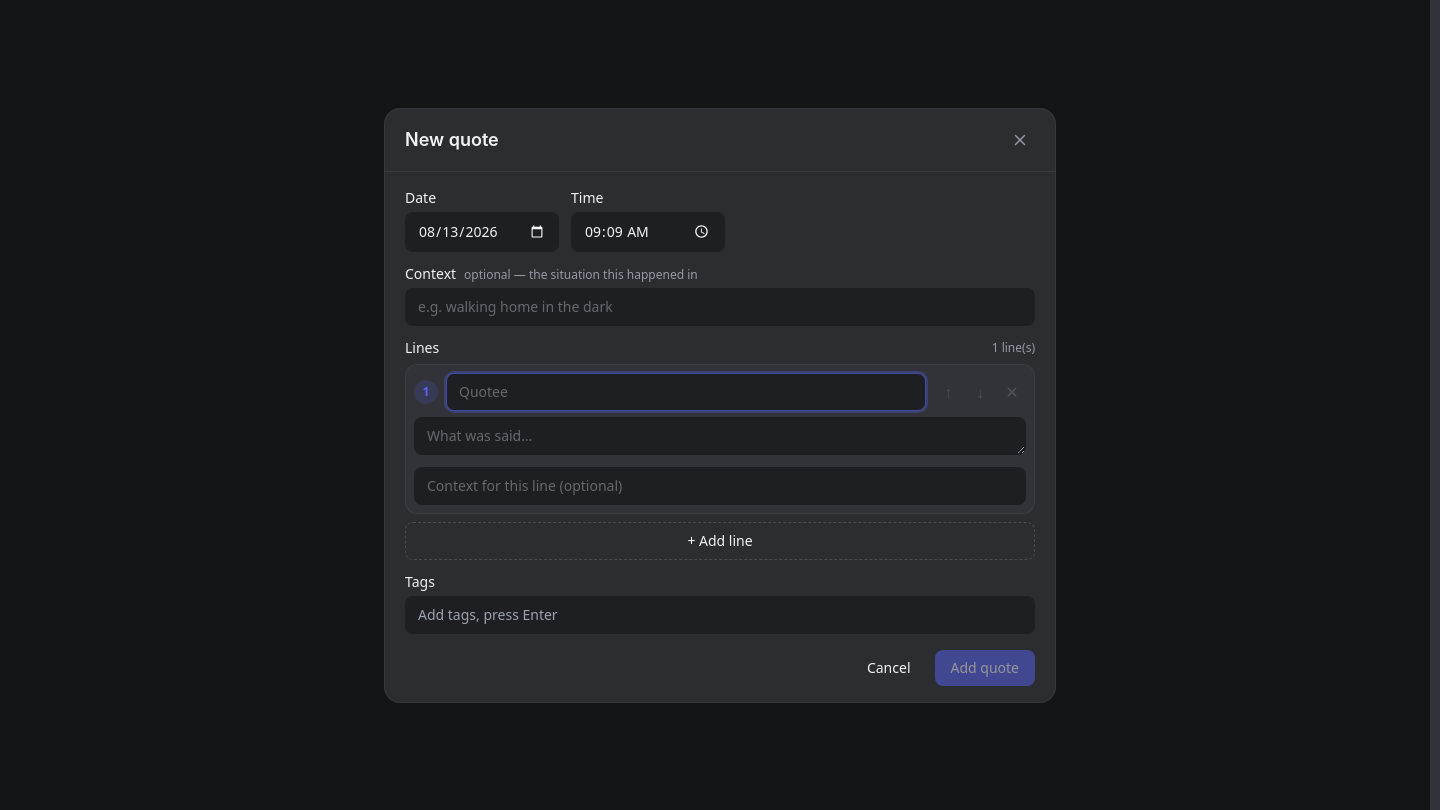
it: QuoteModal › adds and removes dialogue lines
Expected: the number of fields with placeholder "Quotee" is 1, [446,372,926,410]
Click the button "+ Add line". click: (720, 540)
box: [405,522,1035,560]
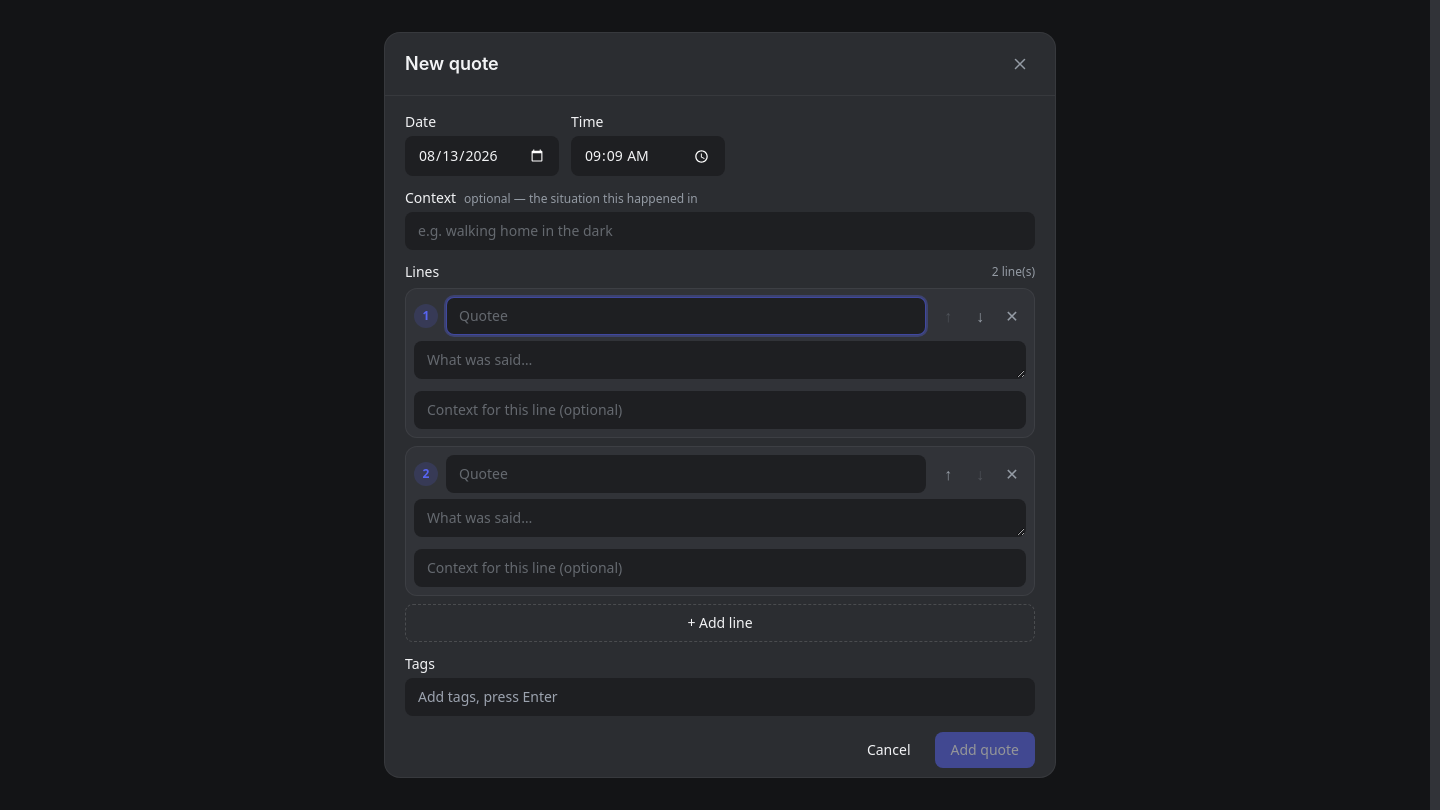
Expected: the number of fields with placeholder "Quotee" is 2, [446,297,926,335]; [446,455,926,493]
Click the button named "Remove line". click: (1012, 316)
box: [998,302,1026,330]
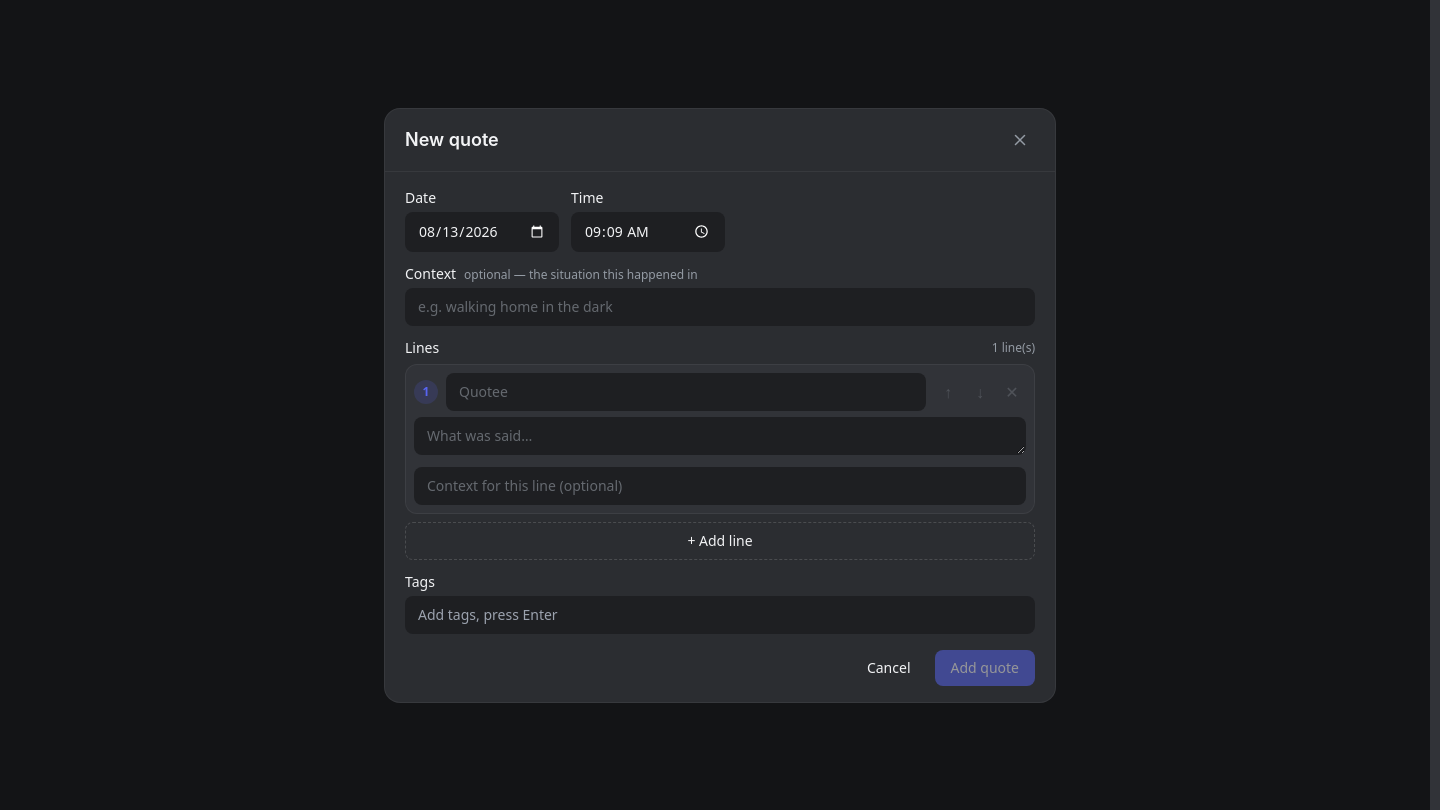
Expected: the number of fields with placeholder "Quotee" is 1, [446,372,926,410]
